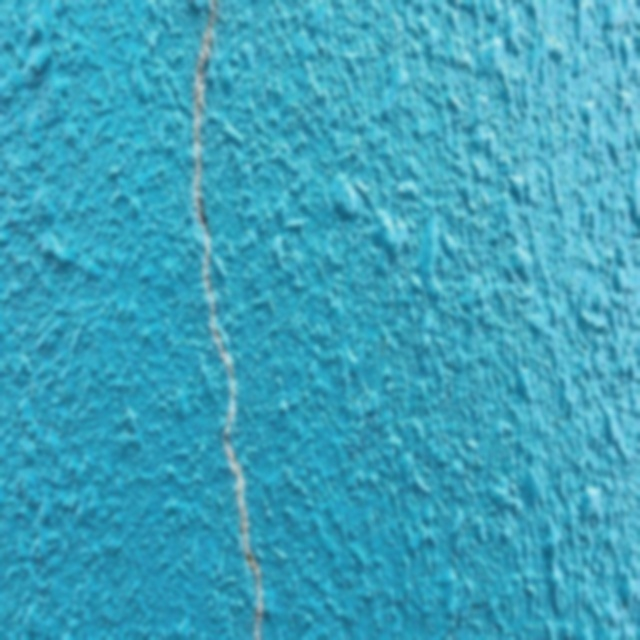SurfaceCrack: (139, 0, 320, 639)
